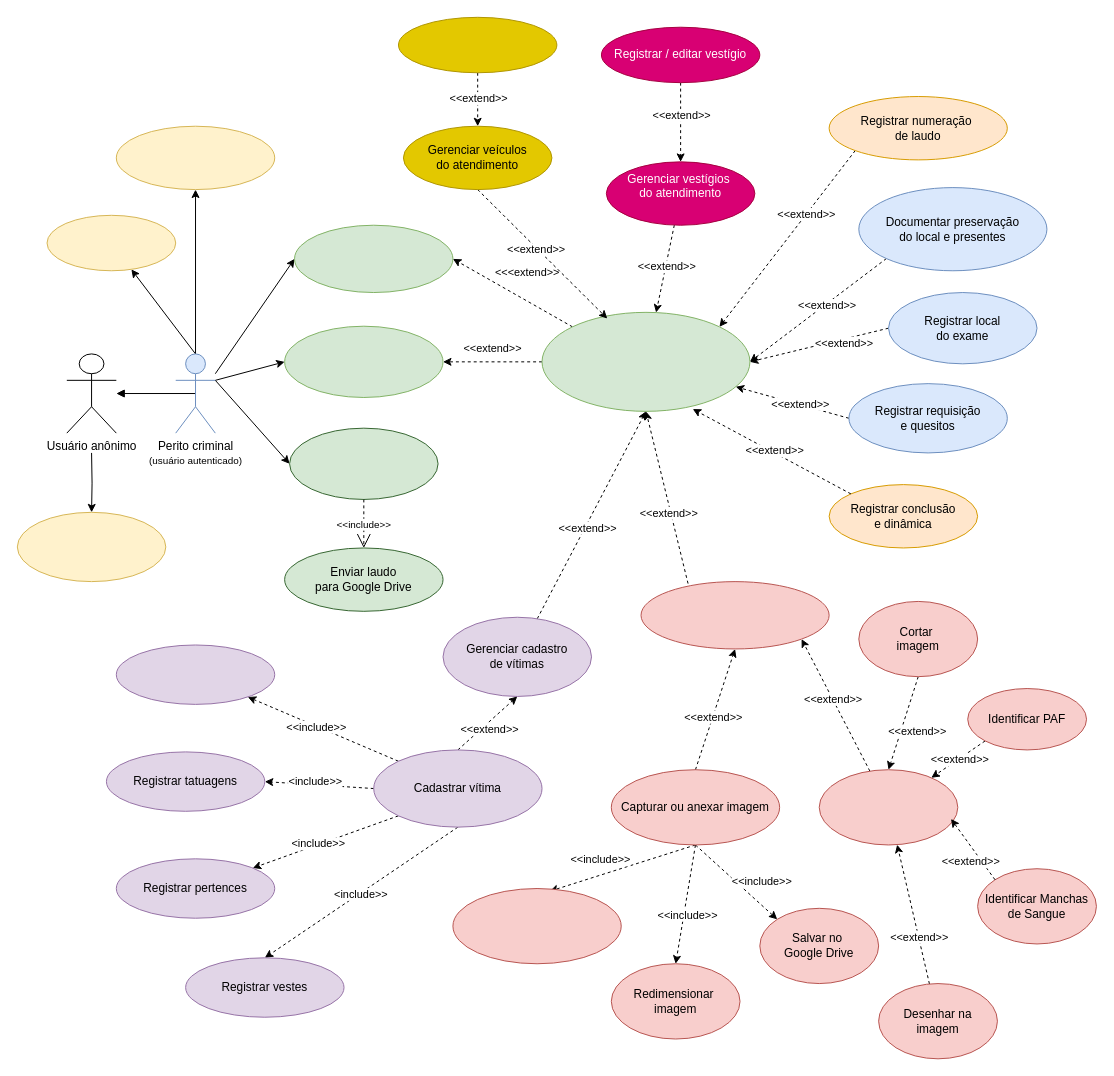
This 1114x1076 diagram has some shape labels left out. Each missing label, with the centre of its shape:
"Autenticar-se (OAuth / Firebase)" belongs at point 91,546.
"Capturar coordenadas da imagem" belongs at point 536,926.
"Completar ou editar perfil profissional" belongs at point 195,157.
"Encerrar sessão" belongs at point 111,242.
"Exportar laudo" belongs at point 363,463.
"Gerenciar imagens e croquis do atendimento" belongs at point 734,615.
"Iniciar novo atendimento" belongs at point 363,361.
"Listar atendimentos" belongs at point 373,258.
"Registrar / editar veículo" belongs at point 477,44.
"Registrar ferimentos" belongs at point 195,674.
"Visualizar atendimento" belongs at point 645,361.
"Visualizar imagem" belongs at point 888,807.
